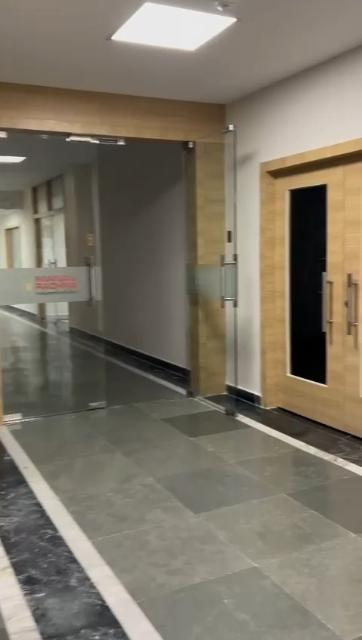door: (254, 160, 362, 414)
floor: (0, 326, 358, 640)
wall: (100, 164, 178, 340), (243, 54, 362, 155)
